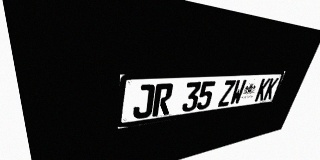3: (181, 82, 202, 112)
5: (196, 81, 216, 110)
J: (132, 84, 155, 120)
K: (254, 78, 271, 102), (263, 78, 279, 100)
R: (152, 83, 174, 117)
W: (229, 79, 247, 105)
Z: (217, 80, 236, 107)
